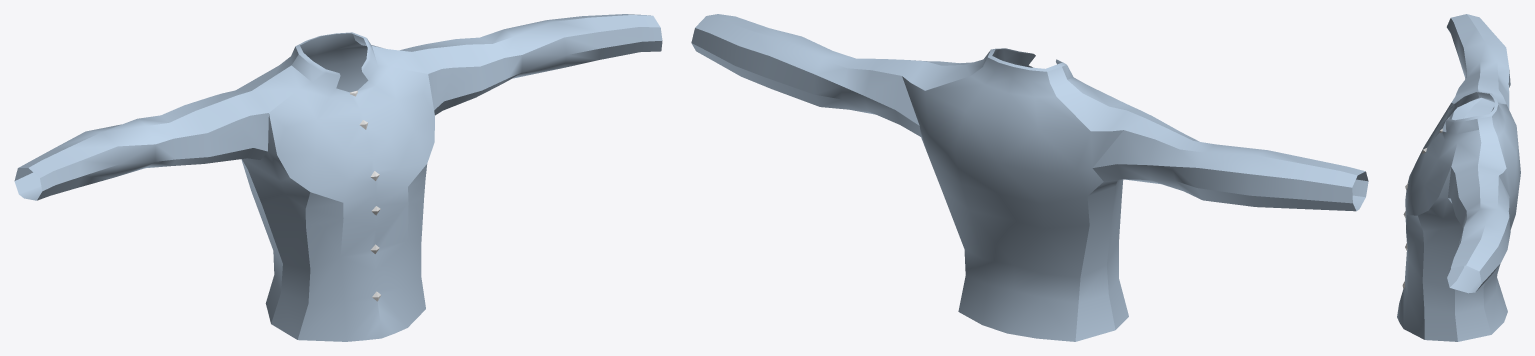
File: Shirt_C Full.fbx
3 renders of one model, left to right at view 1: azimuth 30°, elevation 25°; view 2: azimuth 150°, elevation 25°; view 3: azimuth 270°, elevation 25°, orthographic. The views are drawn at different scales.
Visible parts, largest first — view 1: Shirt_C Full; view 2: Shirt_C Full; view 3: Shirt_C Full.
Part boxes in pixels (bbox=[...]): Shirt_C Full: bbox=[14, 14, 662, 341]; Shirt_C Full: bbox=[691, 14, 1368, 341]; Shirt_C Full: bbox=[1397, 14, 1520, 341].
Size of the model in its own units: 142 by 55.42 by 29.16.
